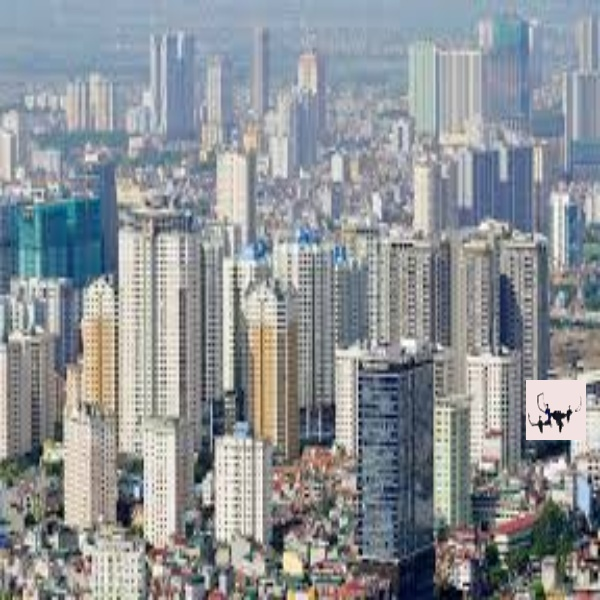drone: (529, 382, 578, 437)
